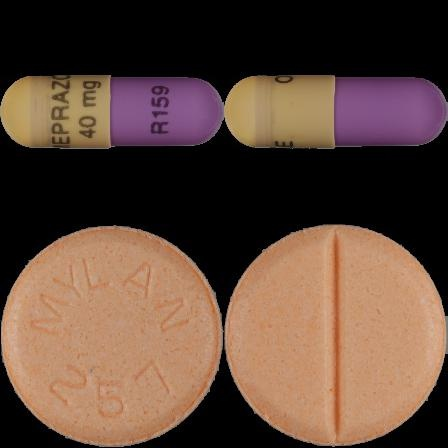43063-549: (0, 0, 224, 224)
